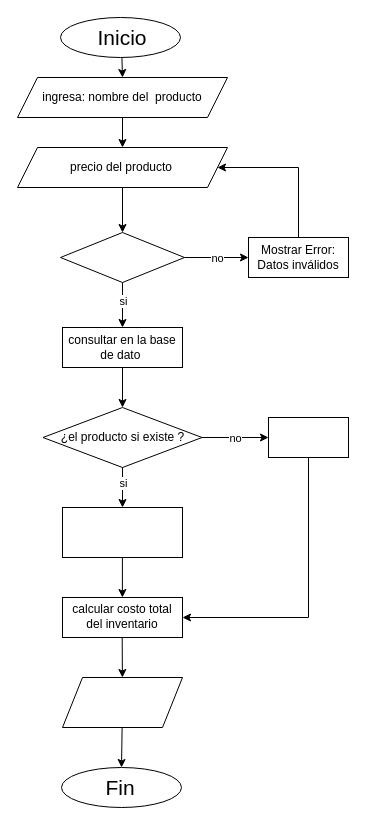
The diagram is 366 pixels wide and 825 high, and some of its shapes have lost their labels. The shapes that lost their labels are listed below. From the top down, each one's centre as x and y in pixels, then its label:
At point 122,257: "¿Datos válidos?".
At point 308,437: "crear nuevo registro".
At point 122,532: "Actualizar stock: cantidad anterior + nueva".
At point 122,702: "Mostrar confirmación y resultado".
